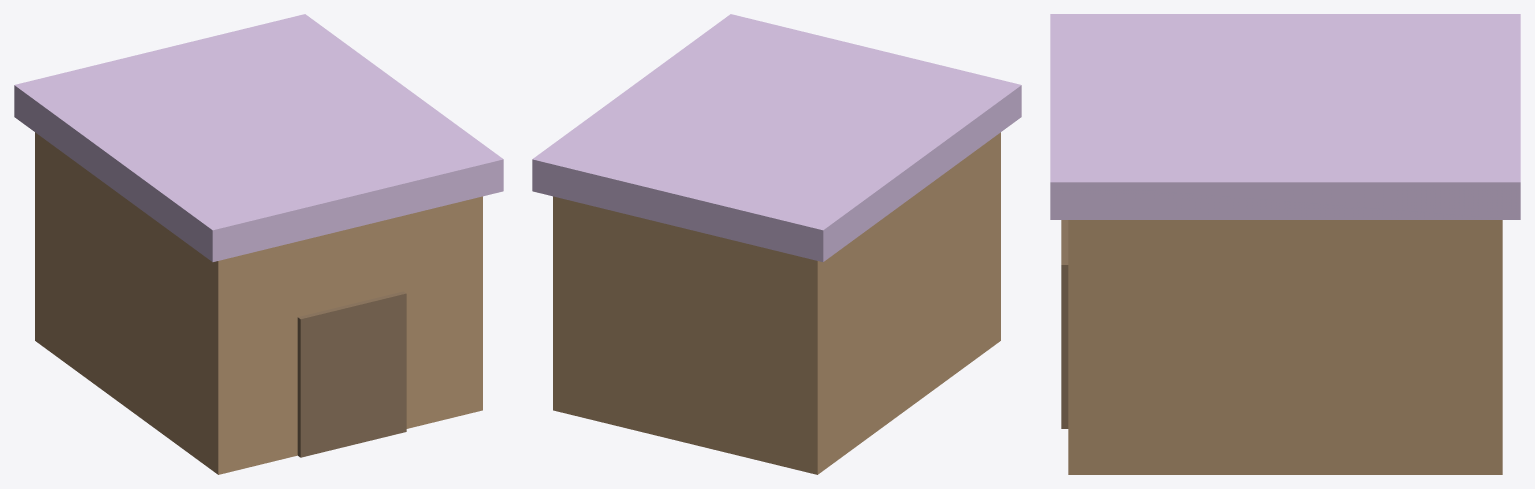
Rendered from Prop_Pet_AMF_Kennel_V4.glb.
3 renders of one model, left to right at view 1: azimuth 30°, elevation 25°; view 2: azimuth 150°, elevation 25°; view 3: azimuth 270°, elevation 25°, orthographic. The views are drawn at different scales.
Parts seen in each view (by area): view 1: Prop_Pet_AMF_Kennel_V4; view 2: Prop_Pet_AMF_Kennel_V4; view 3: Prop_Pet_AMF_Kennel_V4.
Part boxes in pixels (x1=…): Prop_Pet_AMF_Kennel_V4: x1=14, y1=14, x2=503, y2=474; Prop_Pet_AMF_Kennel_V4: x1=532, y1=14, x2=1021, y2=474; Prop_Pet_AMF_Kennel_V4: x1=1050, y1=14, x2=1520, y2=474.
Bounding box in the file's own units: 1.43 × 1.19 × 1.69.
